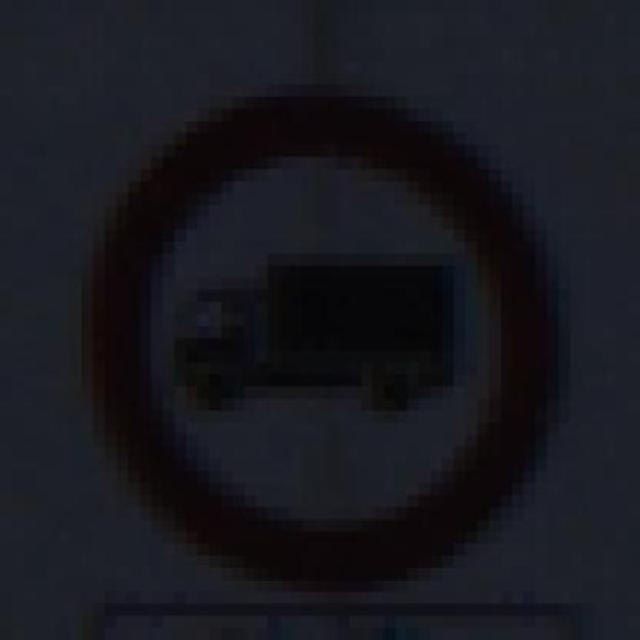Truck traffic is prohibited: (46, 72, 582, 592)
